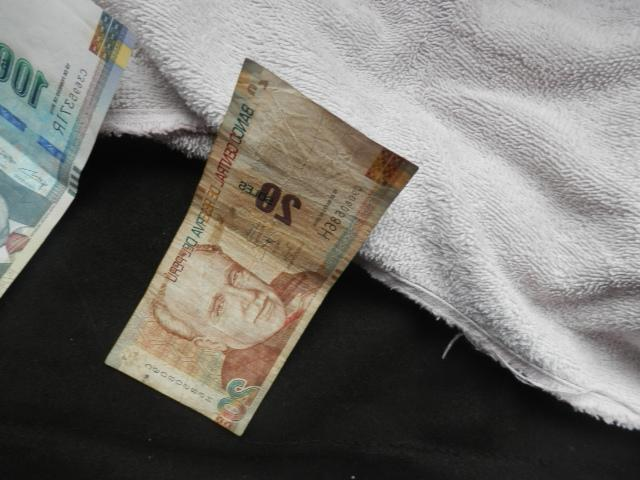B20: (110, 61, 418, 437)
